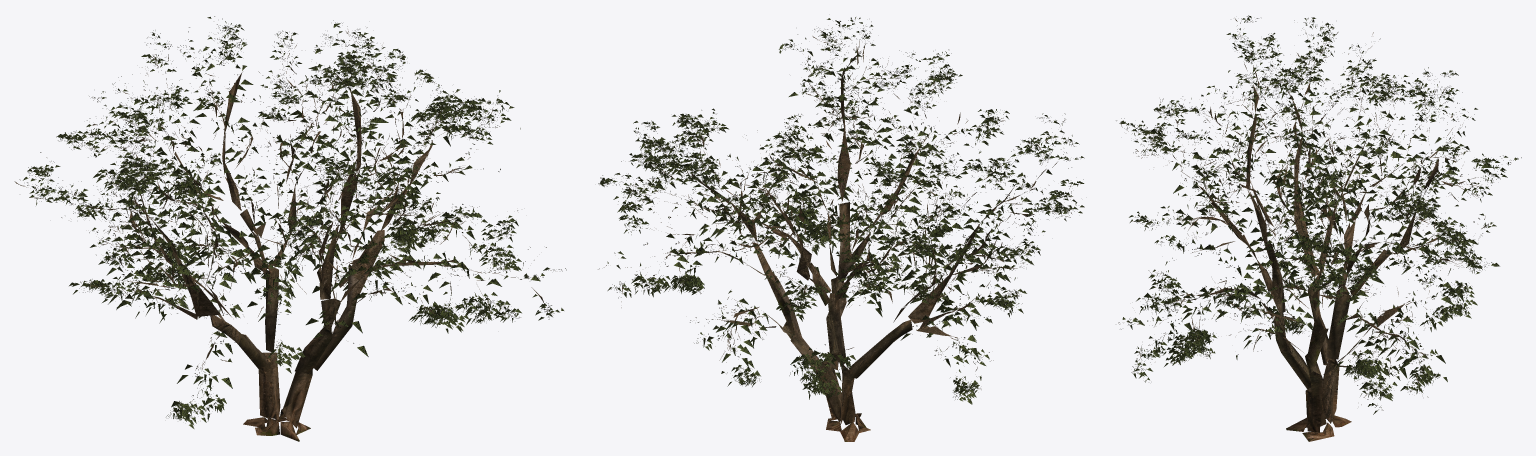
Rendered from jacaranda_tree_lod1.gltf.
3 renders of one model, left to right at view 1: azimuth 30°, elevation 25°; view 2: azimuth 150°, elevation 25°; view 3: azimuth 270°, elevation 25°, orthographic. The views are drawn at different scales.
Visible parts, largest first — view 1: jacaranda_tree_lod1; view 2: jacaranda_tree_lod1; view 3: jacaranda_tree_lod1.
Boxes of the visible parts, <box> form: jacaranda_tree_lod1: <box>14,16,566,441</box>; jacaranda_tree_lod1: <box>598,17,1084,441</box>; jacaranda_tree_lod1: <box>1116,15,1521,441</box>.
Size of the model in its own units: 24.09 by 19.31 by 18.59.
3 materials, 3 textured.
